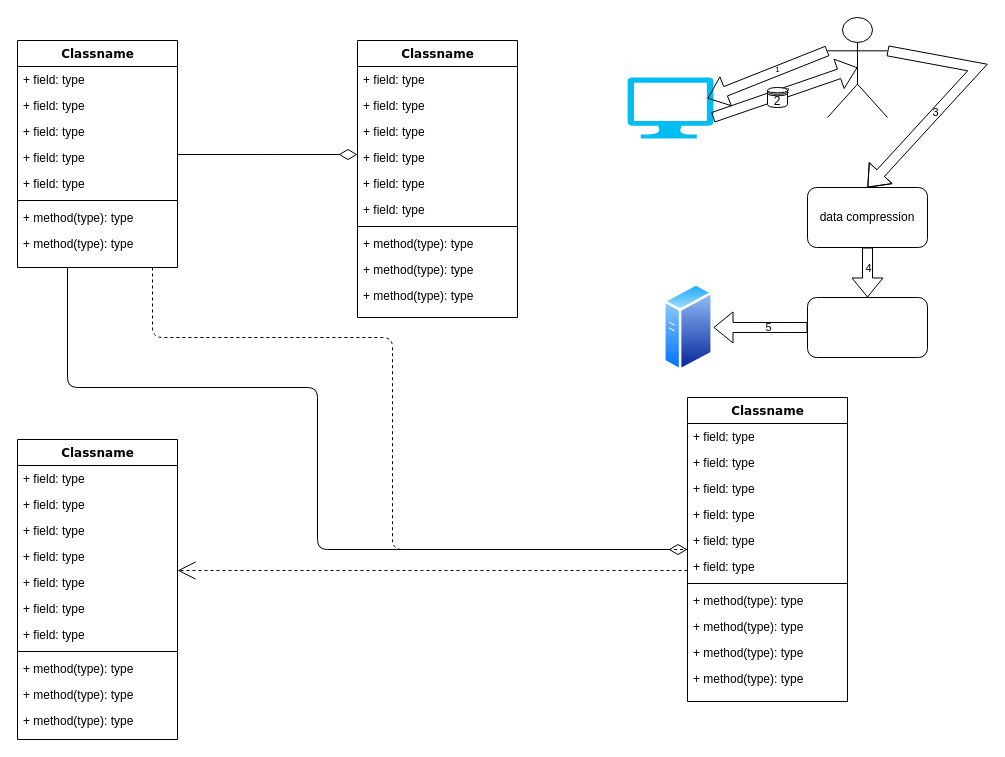
This 1005x757 diagram has some shape labels left out. Here are the shapes that lost their labels. From the top down, the centre of each, then its label:
At (857,67): "CDLOG Agent".
At (867,327): "Encryption".
